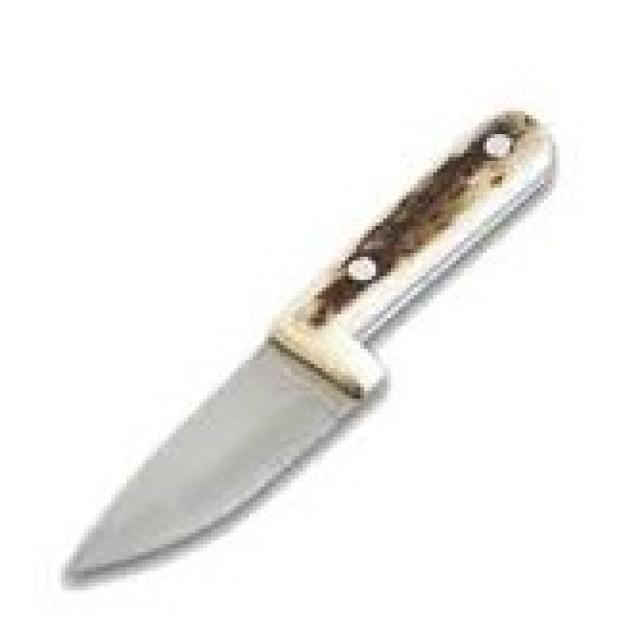knife: (51, 99, 572, 600)
